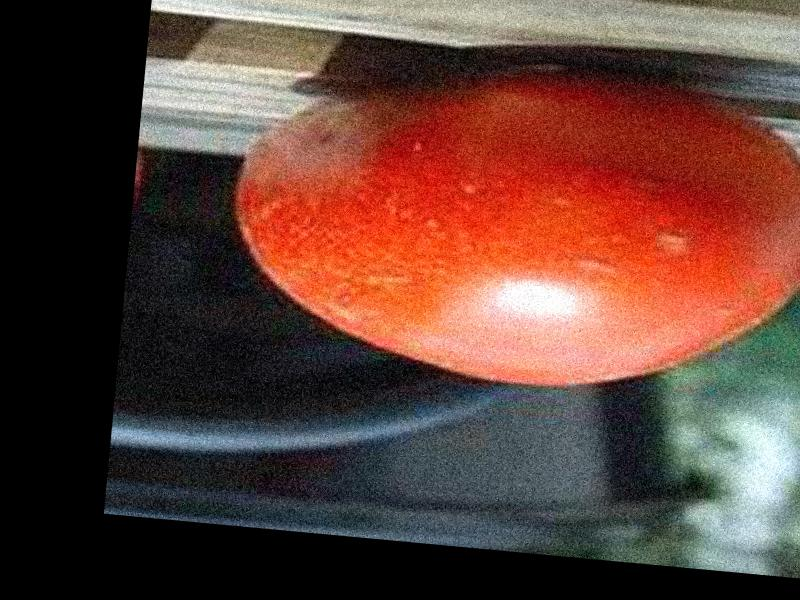Tomato: (222, 46, 800, 412)
